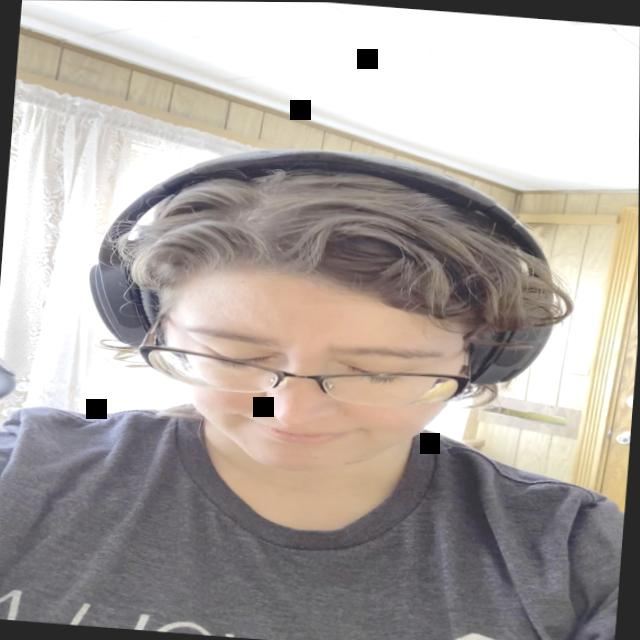NO-Mask: (149, 250, 482, 484)
